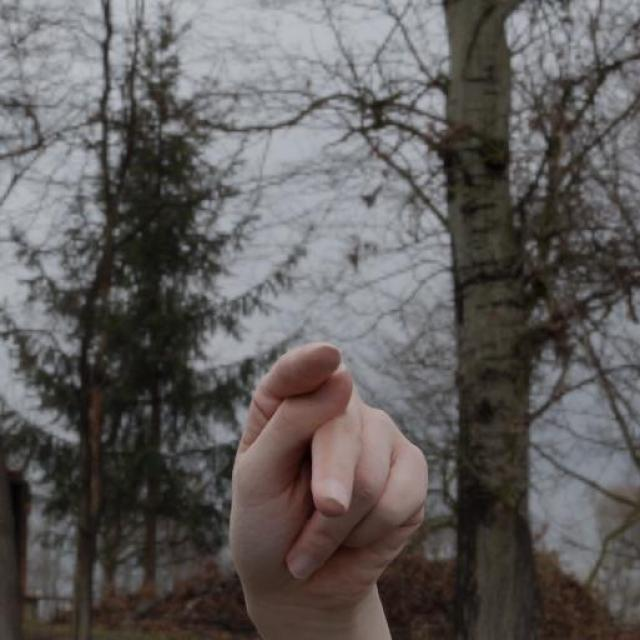P: (224, 340, 433, 615)
